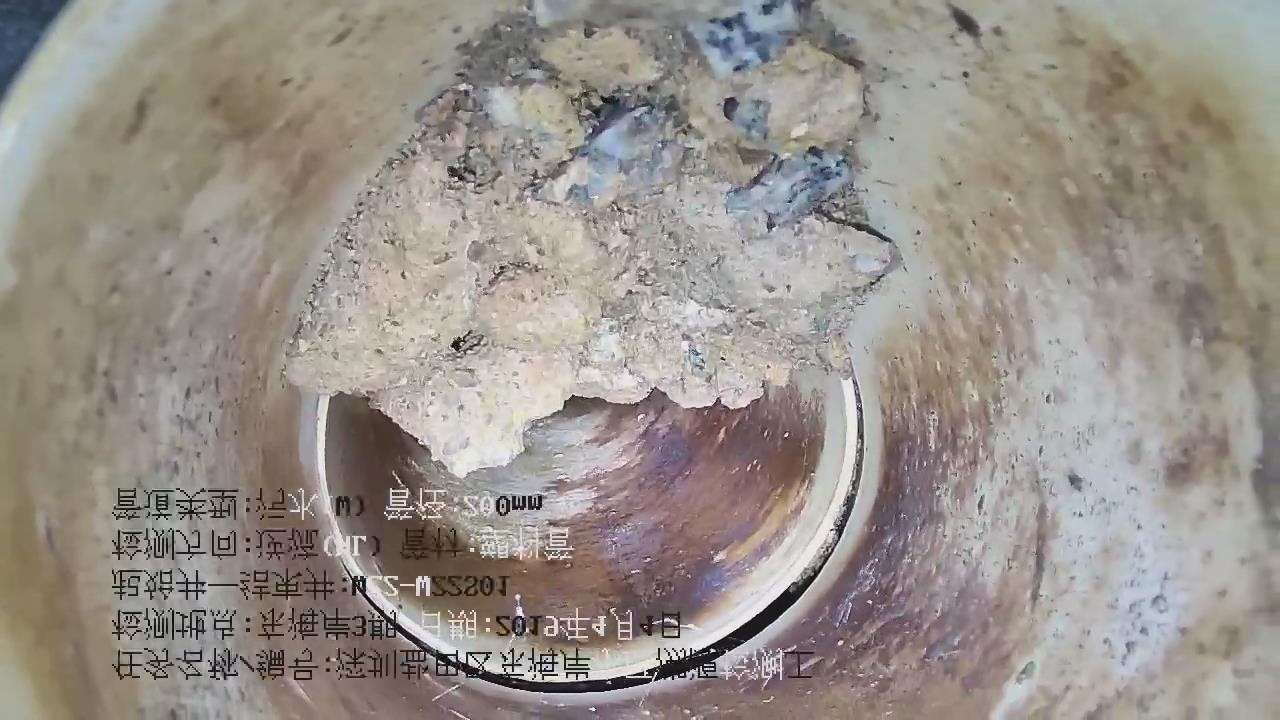CJ: (285, 1, 898, 477)
CKTJ: (300, 310, 882, 706)
